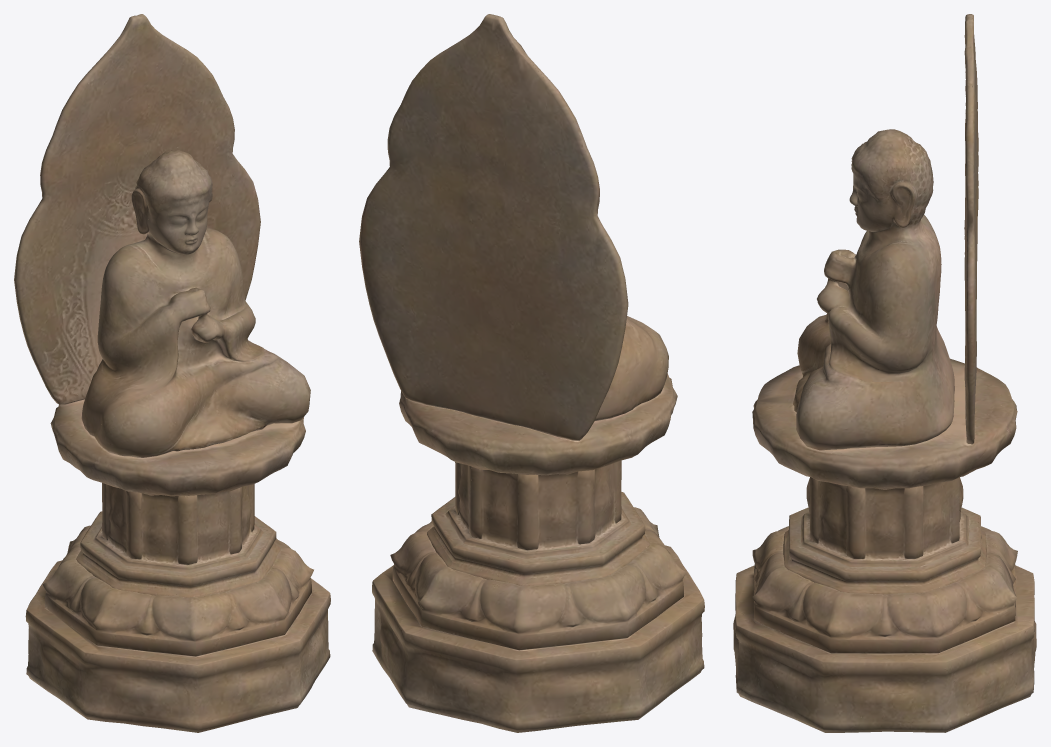
The model's file is vairocana.glb.
3 views of the same model, side by side, from view 1: azimuth 30°, elevation 25°; view 2: azimuth 150°, elevation 25°; view 3: azimuth 270°, elevation 25° (orthographic). The views are drawn at different scales.
Parts seen in each view (by area): view 1: SM_24RE0056_low_Material #27_0; view 2: SM_24RE0056_low_Material #27_0; view 3: SM_24RE0056_low_Material #27_0.
Boxes of the visible parts, x1,y1,x2,y2 form: SM_24RE0056_low_Material #27_0: (14, 14, 330, 732); SM_24RE0056_low_Material #27_0: (359, 14, 704, 732); SM_24RE0056_low_Material #27_0: (733, 14, 1036, 732).
Size of the model in its own units: 1.22 by 2.91 by 1.22.
Materials: 1 (1 with a texture image).
